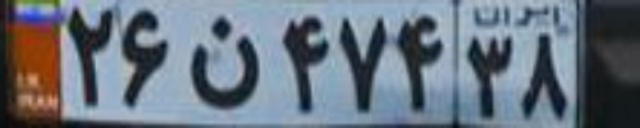2: (65, 7, 117, 108)
3: (468, 33, 514, 118)
4: (395, 14, 450, 113), (282, 14, 332, 114)
6: (120, 8, 166, 108)
7: (336, 13, 388, 114)
8: (517, 31, 568, 119)
non: (191, 15, 263, 107)
